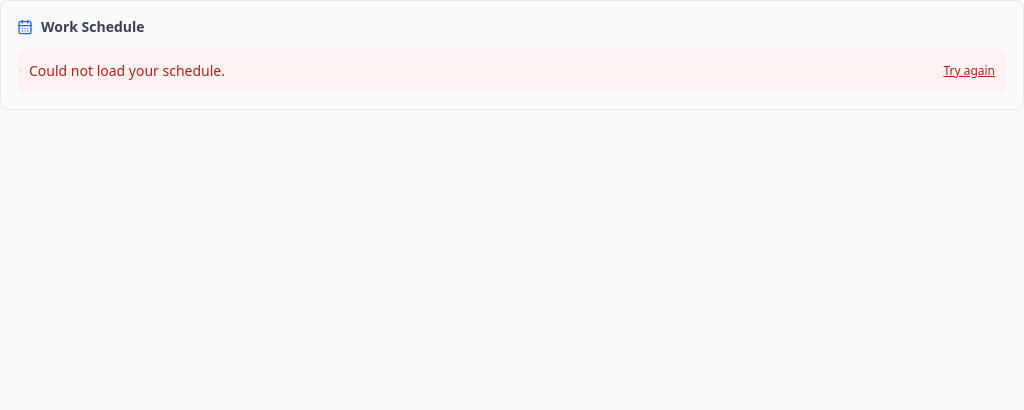
Test: Dashboard schedule card — loading › a load failure shows an error with a retry
The width and height of the screenshot is (1024, 410).
Expected: the message shows "Could not load your schedule.", [29,61,225,80]
Click the button "Try again".
click(969, 71)  # box [943,63,995,79]
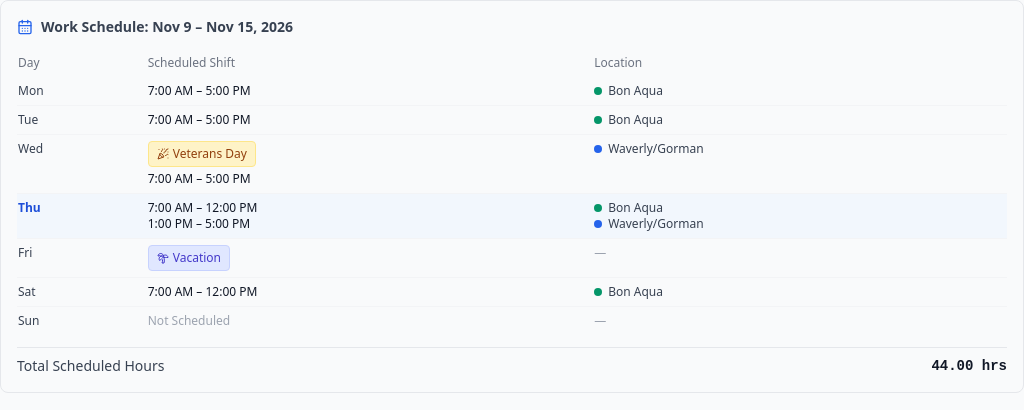
Now the text "Work Schedule: Nov 9 – Nov 15, 2026" is shown, box [41,17,293,37]
Now the message "Could not load your schedule. Try again" is gone
